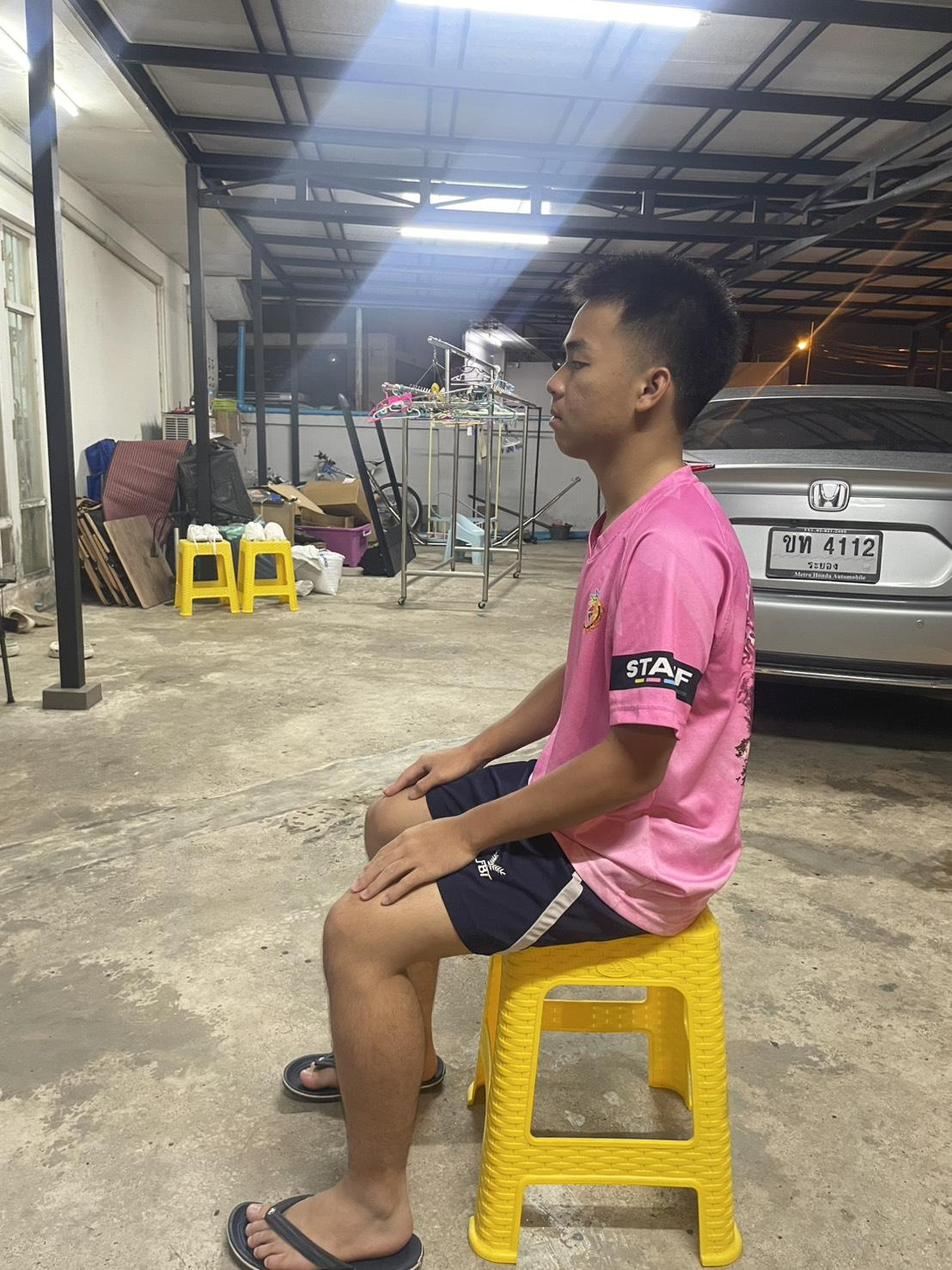GoodPosture: (229, 255, 754, 1269), (464, 255, 754, 950), (533, 256, 754, 934)
